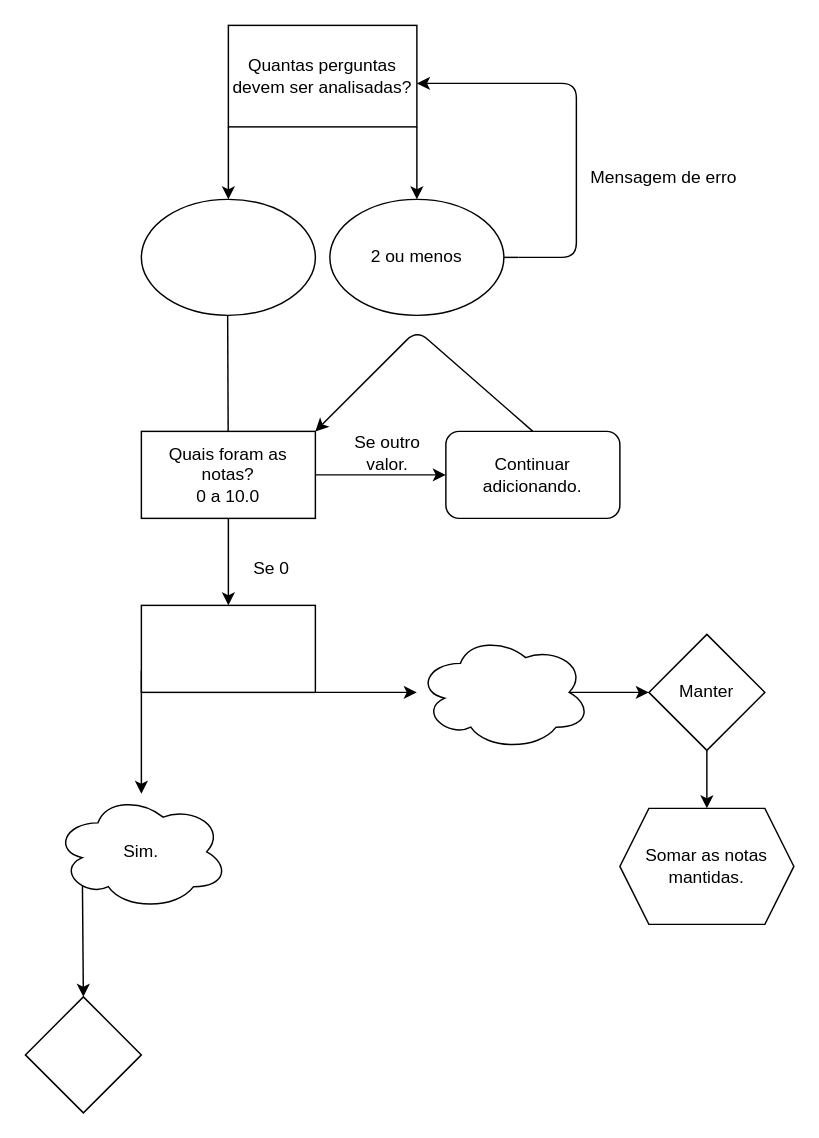
Some shapes in this 819 by 1138 pixel diagram are drawn without their labels. Each missing label, with the centre of its shape:
A nota é a maior ou menor?: the point at 227,648
Excluir.: the point at 82,1054
Mais de 2: the point at 227,256
Não.: the point at 503,691
